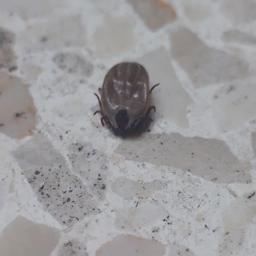Rhipicephalus sanguineus: (93, 61, 159, 137)
